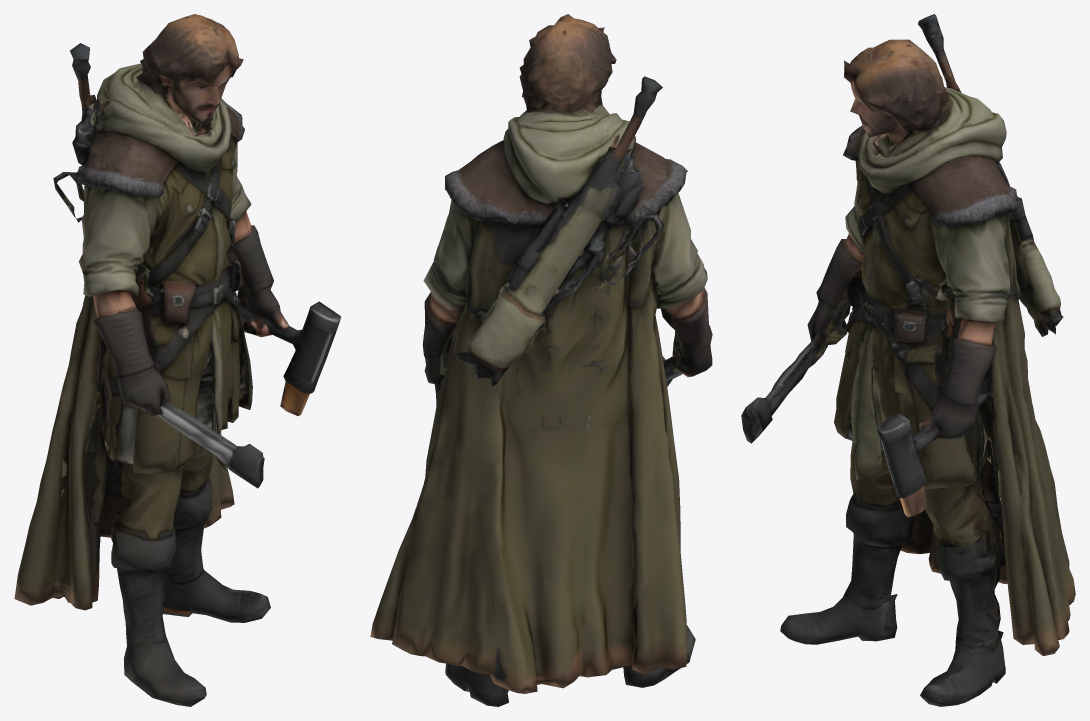
Rendered from Hans Ranger (small).glb.
3 views of the same model, side by side, from view 1: azimuth 30°, elevation 25°; view 2: azimuth 150°, elevation 25°; view 3: azimuth 270°, elevation 25° (orthographic). The views are drawn at different scales.
Parts seen in each view (by area): view 1: Mesh1.0; view 2: Mesh1.0; view 3: Mesh1.0.
Part boxes in pixels (x1=…): Mesh1.0: x1=14, y1=14, x2=341, y2=706; Mesh1.0: x1=370, y1=14, x2=712, y2=706; Mesh1.0: x1=741, y1=14, x2=1075, y2=706.
Bounding box in the file's own units: 0.9083 × 1.91 × 0.9307.
1 material, 1 textured.
